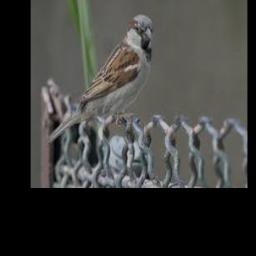Sparrow: (47, 14, 154, 147)
